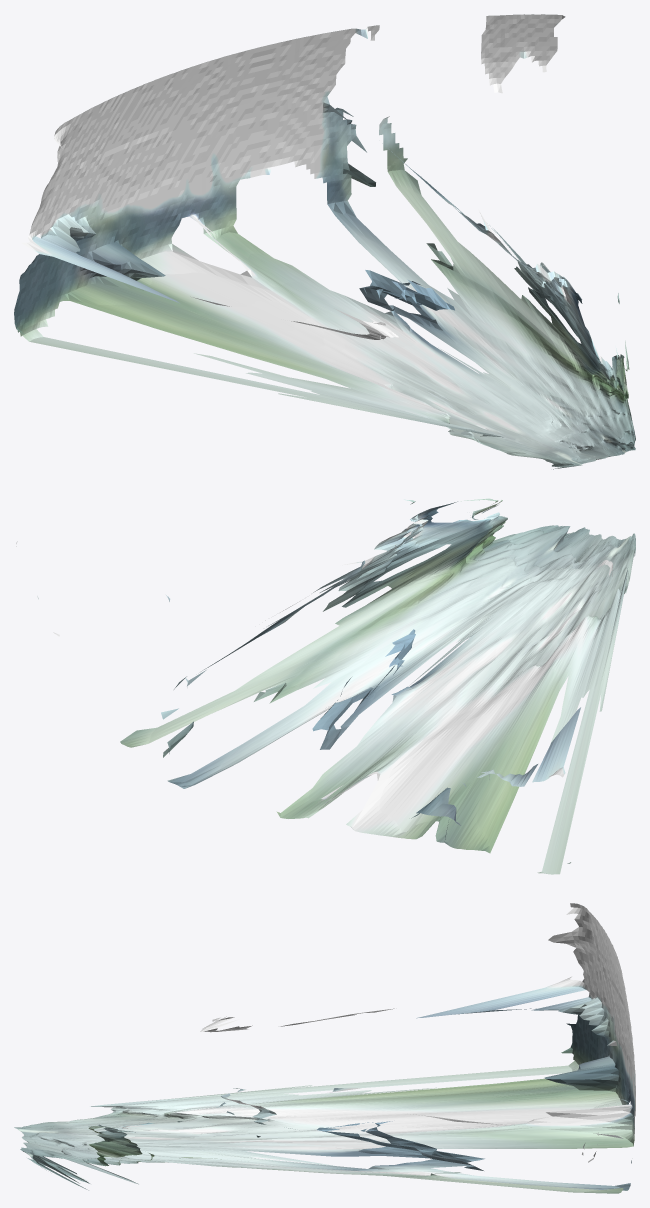
3 views of the same model, one above another, from view 1: azimuth 30°, elevation 25°; view 2: azimuth 150°, elevation 25°; view 3: azimuth 270°, elevation 25° (orthographic). The views are drawn at different scales.
Parts seen in each view (by area): view 1: defaultobject; view 2: defaultobject; view 3: defaultobject.
Boxes of the visible parts, x1=… form: defaultobject: x1=14, y1=14, x2=635, y2=469; defaultobject: x1=16, y1=498, x2=635, y2=874; defaultobject: x1=14, y1=903, x2=635, y2=1193.
Size of the model in its own units: 40.28 by 14.61 by 44.79.
Materials: 1 (1 with a texture image).
